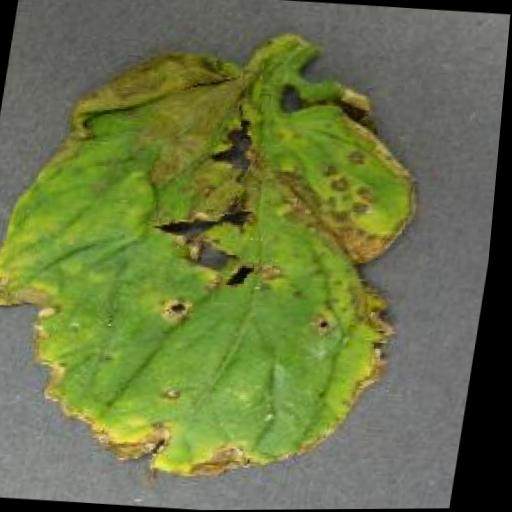Bacterial Spot: (0, 36, 446, 501)
